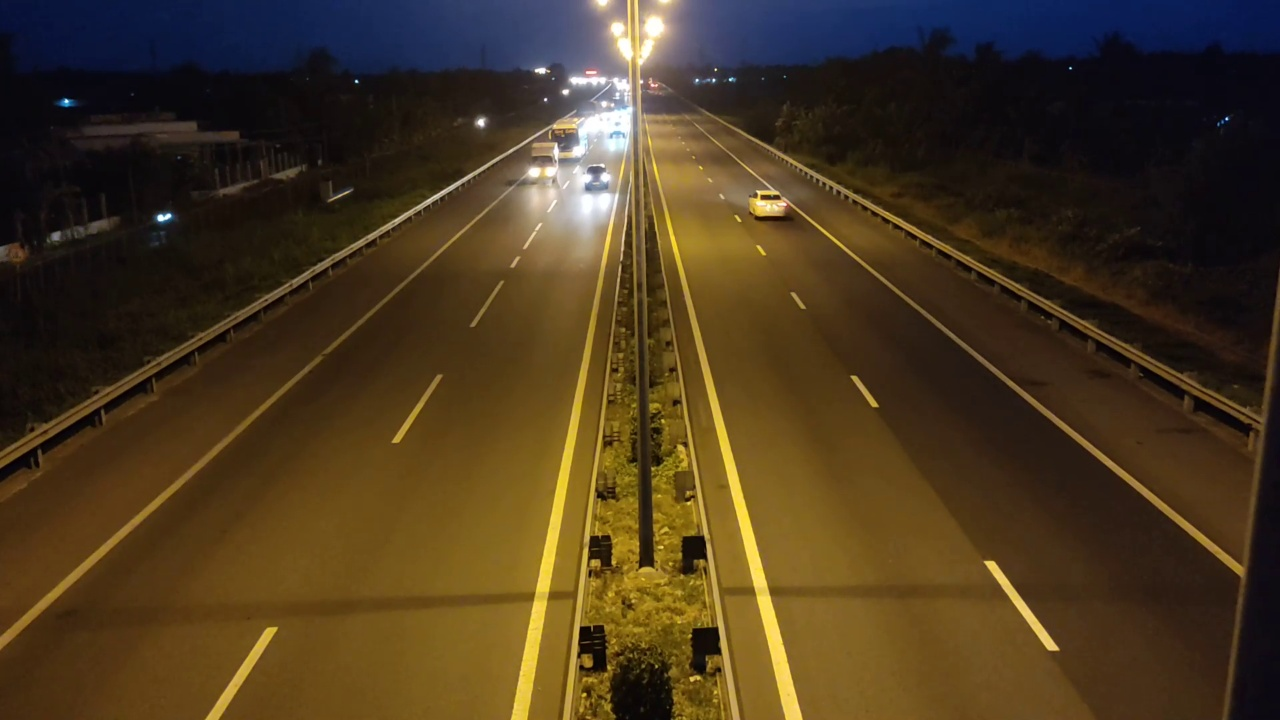car: (747, 189, 791, 219), (583, 164, 611, 191)
